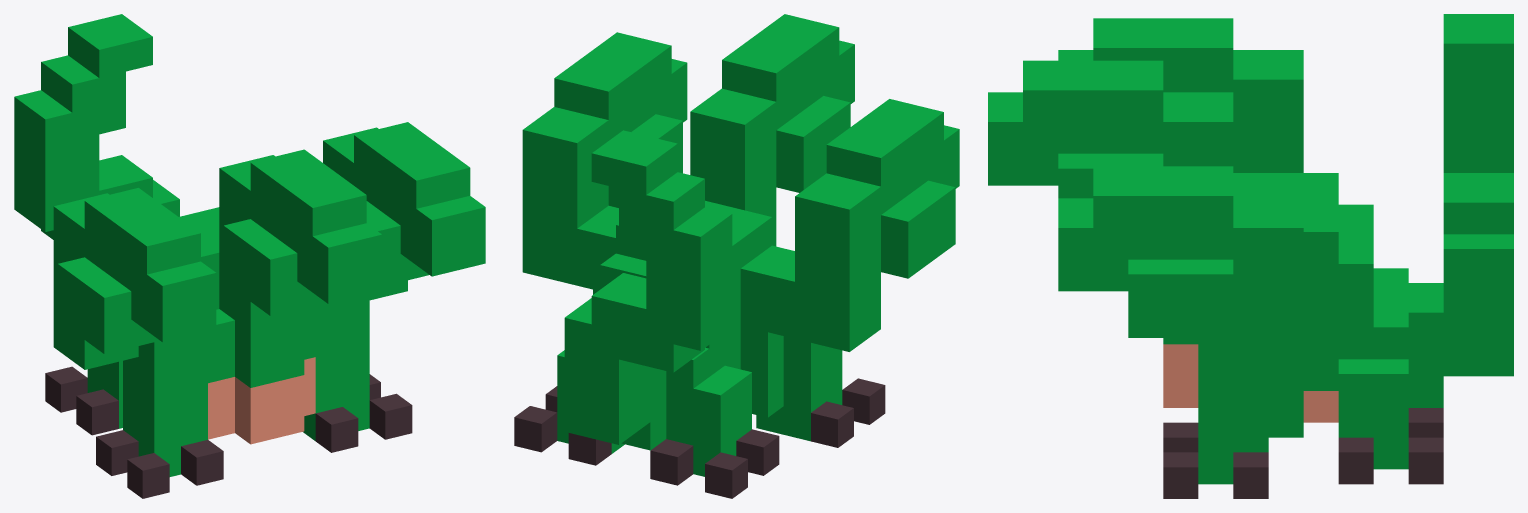
File: hydra_idle_1.obj
3 renders of one model, left to right at view 1: azimuth 30°, elevation 25°; view 2: azimuth 150°, elevation 25°; view 3: azimuth 270°, elevation 25°, orthographic. The views are drawn at different scales.
Size of the model in its own units: 1.4 by 1.2 by 1.5.
Materials: 1 (1 with a texture image).
